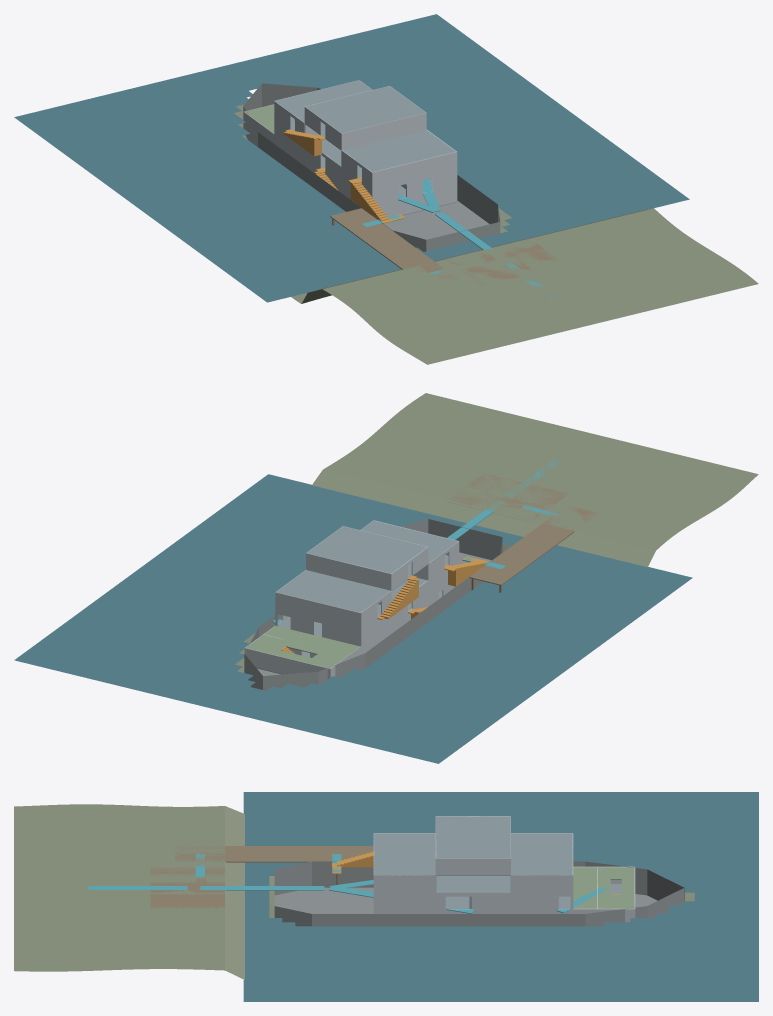
File: access-routes.glb
3 views of the same model, one above another, from view 1: azimuth 30°, elevation 25°; view 2: azimuth 150°, elevation 25°; view 3: azimuth 270°, elevation 25° (orthographic).
Parts seen in each view (by area): view 1: WATER PLACEHOLDER / layers and transparency pending, Authored quay terrain, Pointed retired vessel hull / empty interior, Ceiling cap bridge, Ceiling cap crew, Wall crew S, Wall bridge S, Ceiling cap net, Floor exterior deck portpier 25, Wall engine S, Floor exterior deck portpier 21; view 2: WATER PLACEHOLDER / layers and transparency pending, Authored quay terrain, Pointed retired vessel hull / empty interior, Ceiling cap bridge, Ceiling cap net, Wall bridge N, Wall net N, Ceiling cap crew, Wall pump N, Floor exterior deck portpier 25, Floor exterior deck portpier 21, Flat route shell Wall processing N (+1 smaller); view 3: WATER PLACEHOLDER / layers and transparency pending, Authored quay terrain, Pointed retired vessel hull / empty interior, Ceiling cap bridge, Ceiling cap net, Ceiling cap crew, Flat route shell Wall processing E, Wall bridge E, Ceiling cap processing, Wall net E, Wall mess E, Wall crew E (+11 smaller).
Part boxes in pixels (x1,y1,x2,y2): WATER PLACEHOLDER / layers and transparency pending: [14, 14, 689, 302]; Authored quay terrain: [234, 104, 758, 364]; Pointed retired vessel hull / empty interior: [243, 83, 500, 251]; Ceiling cap bridge: [306, 86, 425, 133]; Ceiling cap crew: [342, 130, 455, 171]; Wall crew S: [372, 151, 456, 188]; Wall bridge S: [341, 113, 426, 149]; Ceiling cap net: [275, 80, 371, 122]; Floor exterior deck portpier 25: [366, 223, 444, 272]; Wall engine S: [374, 185, 456, 217]; Floor exterior deck portpier 21: [352, 227, 427, 272]; WATER PLACEHOLDER / layers and transparency pending: [14, 474, 692, 763]; Authored quay terrain: [235, 393, 758, 686]; Pointed retired vessel hull / empty interior: [244, 519, 502, 690]; Ceiling cap bridge: [306, 526, 427, 573]; Ceiling cap net: [276, 570, 390, 612]; Wall bridge N: [306, 553, 391, 590]; Wall net N: [275, 592, 360, 629]; Ceiling cap crew: [361, 520, 458, 562]; Wall pump N: [245, 648, 329, 678]; Floor exterior deck portpier 25: [490, 516, 558, 565]; Floor exterior deck portpier 21: [506, 519, 588, 568]; Flat route shell Wall processing N: [322, 620, 360, 646]; WATER PLACEHOLDER / layers and transparency pending: [243, 792, 758, 1001]; Authored quay terrain: [14, 804, 694, 979]; Pointed retired vessel hull / empty interior: [274, 861, 684, 926]; Ceiling cap bridge: [436, 816, 510, 858]; Ceiling cap net: [511, 833, 572, 875]; Ceiling cap crew: [374, 833, 435, 875]; Flat route shell Wall processing E: [436, 892, 572, 909]; Wall bridge E: [436, 858, 510, 875]; Ceiling cap processing: [436, 876, 510, 891]; Wall net E: [510, 875, 572, 892]; Wall mess E: [374, 892, 435, 909]; Wall crew E: [374, 875, 435, 892].
Size of the model in its own units: 80 by 14.64 by 120.
